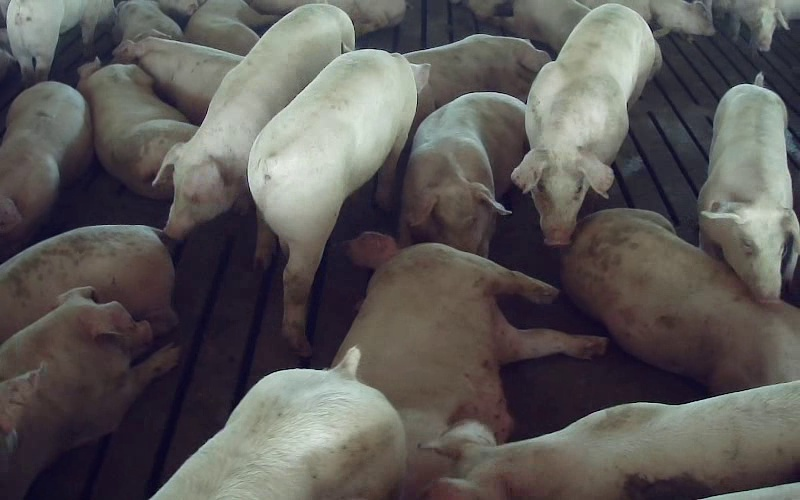pig: (334, 232, 604, 456), (154, 4, 353, 238), (562, 209, 799, 393), (431, 381, 799, 499), (153, 347, 404, 499), (0, 287, 178, 499), (511, 4, 660, 245), (698, 74, 799, 302), (399, 93, 528, 256), (0, 225, 177, 342), (78, 59, 196, 198), (0, 82, 92, 256), (404, 34, 549, 124), (113, 30, 242, 124), (6, 0, 112, 84), (184, 0, 279, 55), (112, 0, 182, 43)
